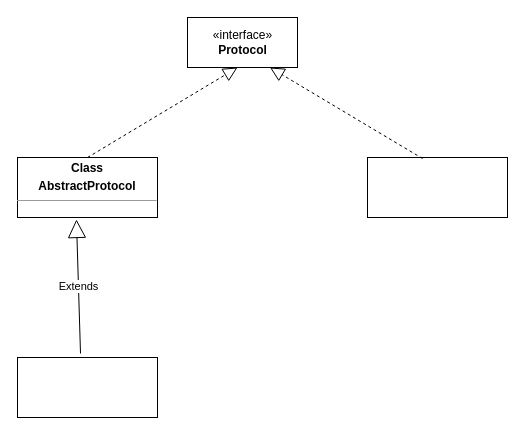
This 525x435 diagram has some shape labels left out. Each missing label, with the centre of its shape:
Class DubboProtocol: the point at 87,387
Class RegistryProtocol: the point at 437,187
